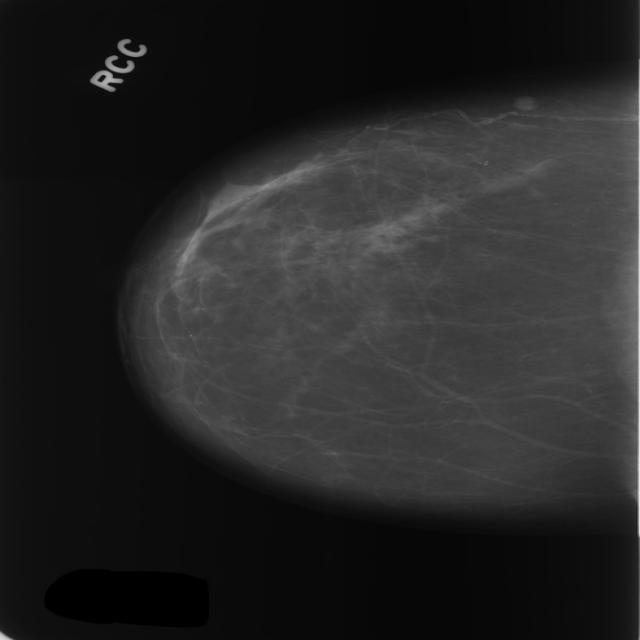tumour: (509, 94, 533, 109)
